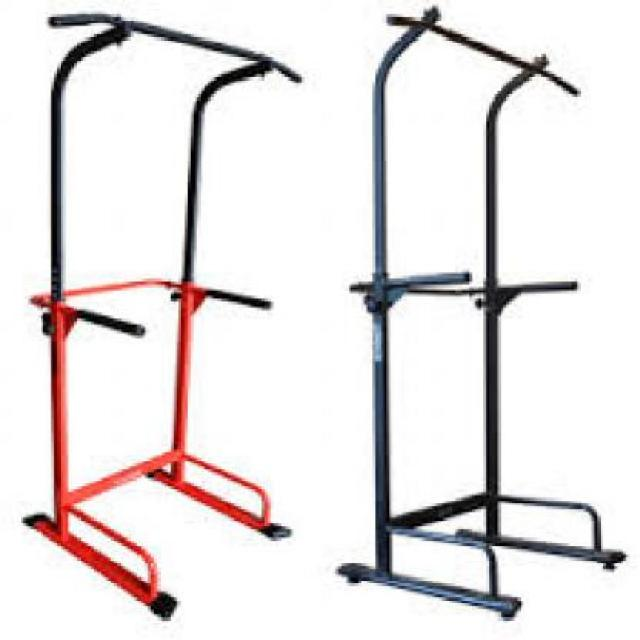chinning dipping: (334, 4, 631, 624), (23, 8, 302, 628)
